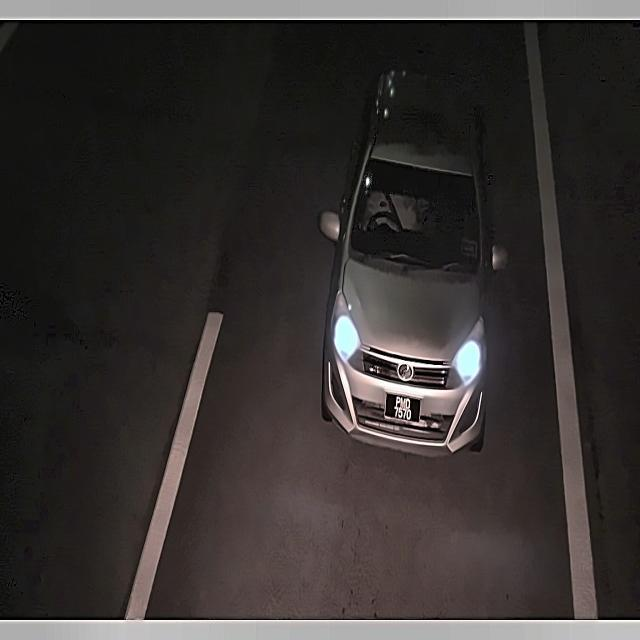car: (383, 386, 423, 431)
